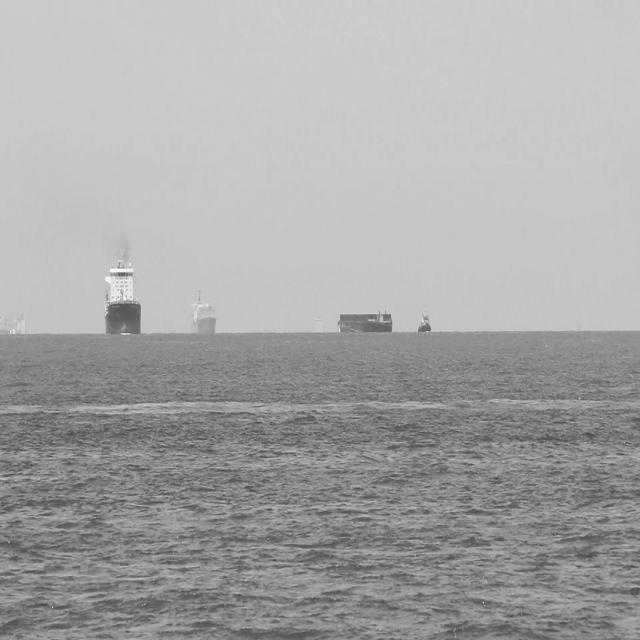ship: (101, 244, 143, 340), (186, 283, 217, 338), (335, 308, 393, 336), (414, 304, 434, 336)
